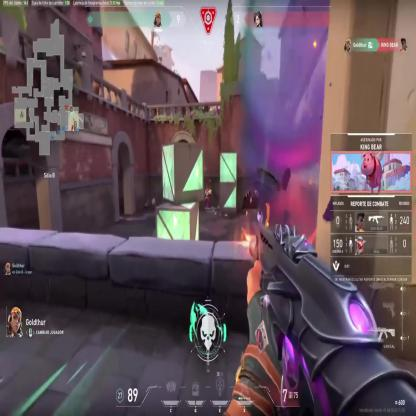enemy: (204, 186, 211, 209)
enemy_head: (206, 187, 208, 192)
